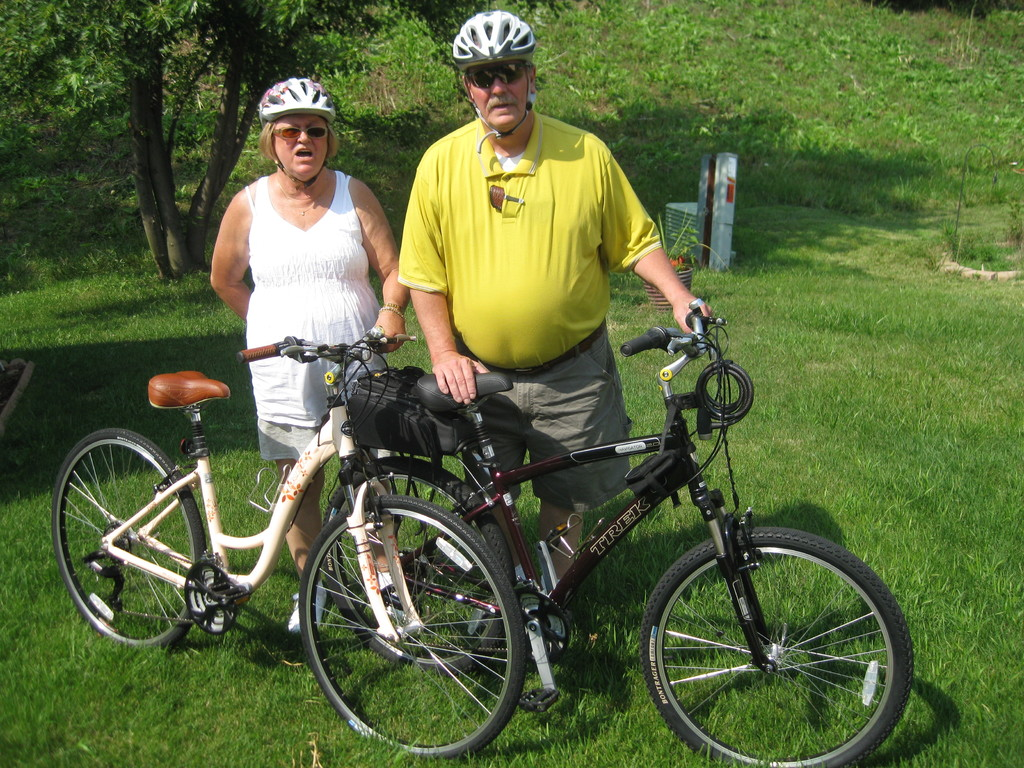Bike: (320, 310, 915, 768), (50, 336, 527, 759)
